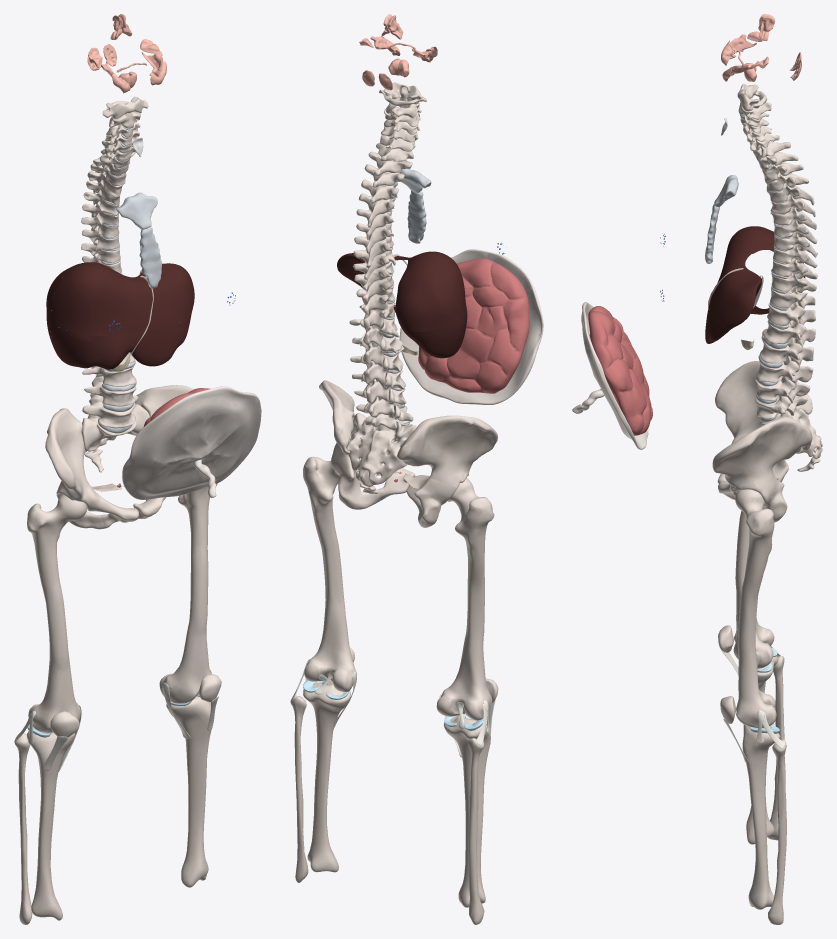
The model's file is skeletal.glb.
The picture shows the model from 3 angles, left to right: view 1: azimuth 30°, elevation 25°; view 2: azimuth 150°, elevation 25°; view 3: azimuth 270°, elevation 25°; orthographic projection. The views are drawn at different scales.
Visible parts, largest first — view 1: amnion, right-femur, f-left-femur, f-left-tibia, f-right-tibia, right-anterosuperior-segment, left-superomedial-segment1, compact-bone-tissue-3, left-superomedial-segment, left-anterolateral-segment, f-right-fibula, right-anteroinferior-segment (+11 smaller); view 2: basal-plate, right-femur, f-left-femur, compact-bone-tissue-3, amnion, f-left-tibia, right-posterosuperior-segment, fused-sacrum, f-right-tibia, f-right-fibula, f-left-fibula, compact-bone-tissue-4 (+14 smaller); view 3: f-left-femur, compact-bone-tissue-4, basal-plate, f-left-tibia, compact-bone-tissue-3, left-superomedial-segment, f-left-fibula, amnion, right-femur, f-right-fibula, lumbar-vertebra-4, lumbar-vertebra-3 (+13 smaller).
Boxes of the visible parts, x1,y1,x2,y2 form: amnion: [122, 386, 261, 499]; right-femur: [27, 494, 86, 730]; f-left-femur: [160, 483, 217, 702]; f-left-tibia: [166, 696, 211, 887]; f-right-tibia: [27, 731, 74, 920]; right-anterosuperior-segment: [50, 262, 114, 336]; left-superomedial-segment1: [98, 271, 153, 336]; compact-bone-tissue-3: [45, 408, 88, 502]; left-superomedial-segment: [140, 263, 194, 330]; left-anterolateral-segment: [130, 316, 190, 366]; f-right-fibula: [14, 733, 32, 924]; right-anteroinferior-segment: [50, 321, 98, 368]; basal-plate: [418, 258, 529, 393]; right-femur: [441, 478, 494, 716]; f-left-femur: [303, 456, 354, 689]; compact-bone-tissue-3: [397, 415, 497, 488]; amnion: [399, 249, 543, 404]; f-left-tibia: [303, 681, 350, 872]; right-posterosuperior-segment: [395, 263, 459, 331]; fused-sacrum: [346, 413, 416, 486]; f-right-tibia: [443, 714, 490, 907]; f-right-fibula: [467, 738, 484, 924]; f-left-fibula: [290, 696, 308, 882]; compact-bone-tissue-4: [319, 380, 360, 458]; f-left-femur: [735, 489, 774, 725]; compact-bone-tissue-4: [712, 416, 812, 496]; basal-plate: [589, 306, 652, 434]; f-left-tibia: [742, 724, 780, 909]; compact-bone-tissue-3: [715, 361, 812, 437]; left-superomedial-segment: [709, 270, 761, 329]; f-left-fibula: [768, 739, 786, 924]; amnion: [581, 302, 648, 449]; right-femur: [734, 511, 769, 667]; f-right-fibula: [768, 656, 784, 840]; lumbar-vertebra-4: [757, 355, 813, 386]; lumbar-vertebra-3: [760, 335, 813, 367].
Bounding box in the file's own units: 0.3598 × 1.59 × 0.4151.
